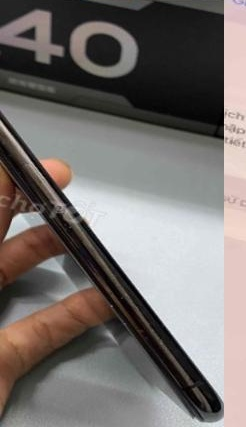scratch: (127, 315, 183, 350), (0, 108, 25, 147), (98, 293, 125, 319)
